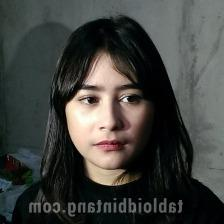Non hijab: (38, 9, 196, 219)
